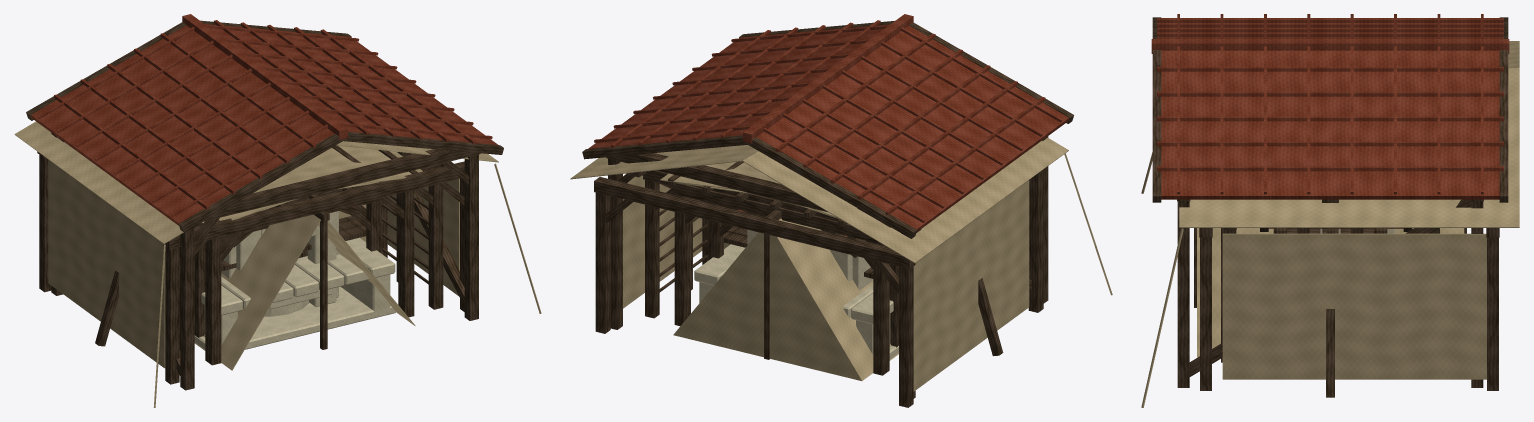
The model's file is italian-marching-kit.glb.
3 views of the same model, side by side, from view 1: azimuth 30°, elevation 25°; view 2: azimuth 150°, elevation 25°; view 3: azimuth 270°, elevation 25° (orthographic). The views are drawn at different scales.
Parts seen in each view (by area): view 1: wagon_shed_Oxide, command_pavilion_Dusty, wagon_shed_Weathered, command_pavilion_Weathered, drainage_crossing_Weathered, ridge_tent_Dusty, officers_awning_Weathered, vine_pergola_Weathered, baggage_rack_Weathered, officers_awning_Dusty, roadside_shrine_Weathered, marching_gate_Weathered (+2 smaller); view 2: wagon_shed_Oxide, command_pavilion_Dusty, ridge_tent_Dusty, command_pavilion_Weathered, wagon_shed_Weathered, officers_awning_Weathered, vine_pergola_Weathered, drainage_crossing_Weathered, baggage_rack_Weathered, marching_gate_Weathered, field_kitchen_Weathered.001, roadside_shrine_Weathered (+2 smaller); view 3: wagon_shed_Oxide, command_pavilion_Dusty, wagon_shed_Weathered, command_pavilion_Weathered, ridge_tent_Dusty, marching_gate_Weathered, baggage_rack_Weathered.
Boxes of the visible parts, x1,y1,x2,y2 form: wagon_shed_Oxide: (31, 14, 497, 225); command_pavilion_Dusty: (14, 121, 541, 407); wagon_shed_Weathered: (26, 20, 503, 390); command_pavilion_Weathered: (37, 151, 464, 384); drainage_crossing_Weathered: (194, 237, 395, 349); ridge_tent_Dusty: (194, 214, 415, 370); officers_awning_Weathered: (207, 190, 414, 365); vine_pergola_Weathered: (179, 145, 444, 349); baggage_rack_Weathered: (194, 199, 380, 337); officers_awning_Dusty: (202, 145, 422, 223); roadside_shrine_Weathered: (221, 166, 350, 323); marching_gate_Weathered: (95, 152, 410, 346); wagon_shed_Oxide: (588, 14, 1068, 231); command_pavilion_Dusty: (570, 137, 1112, 391); ridge_tent_Dusty: (673, 218, 898, 380); command_pavilion_Weathered: (594, 168, 1045, 407); wagon_shed_Weathered: (582, 21, 1073, 398); officers_awning_Weathered: (673, 183, 888, 375); vine_pergola_Weathered: (635, 161, 847, 318); drainage_crossing_Weathered: (694, 244, 898, 358); baggage_rack_Weathered: (709, 203, 898, 347); marching_gate_Weathered: (691, 198, 1003, 356); field_kitchen_Weathered.001: (685, 197, 889, 373); roadside_shrine_Weathered: (747, 229, 873, 289); wagon_shed_Oxide: (1151, 14, 1509, 199); command_pavilion_Dusty: (1141, 41, 1519, 407); wagon_shed_Weathered: (1152, 17, 1508, 387); command_pavilion_Weathered: (1199, 228, 1499, 390); ridge_tent_Dusty: (1197, 228, 1464, 357); marching_gate_Weathered: (1297, 199, 1363, 397); baggage_rack_Weathered: (1273, 228, 1387, 233).
Size of the model in its own units: 7.64 by 4.39 by 5.67.
4 materials, 4 textured.
